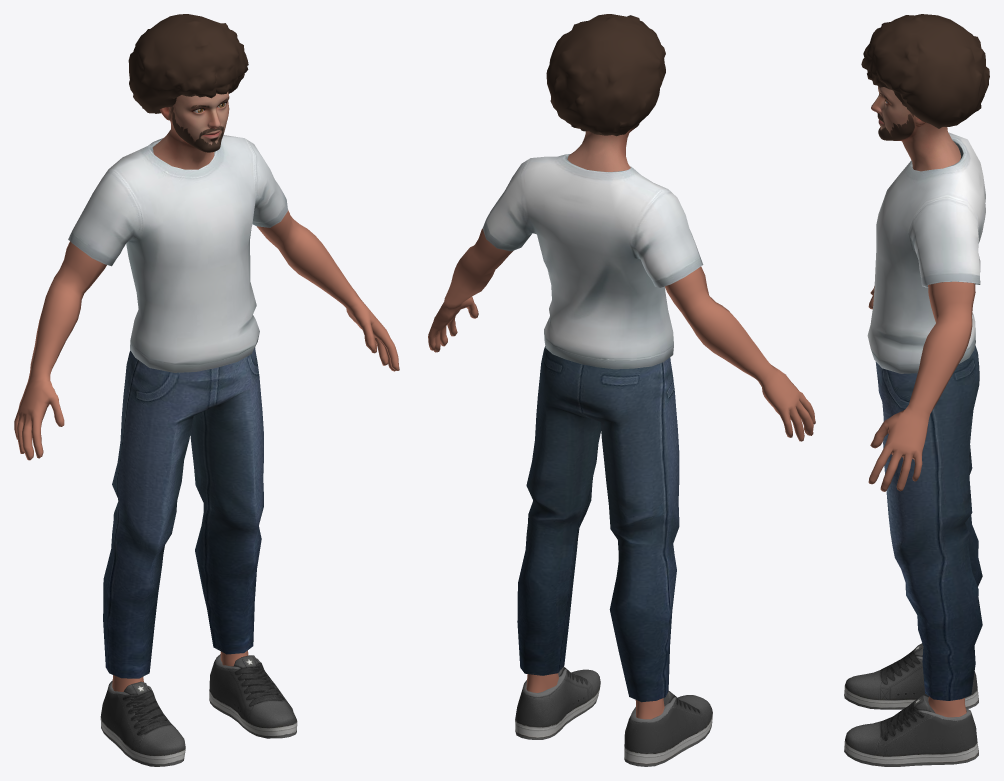
The model's file is avatar_2.glb.
The picture shows the model from 3 angles, left to right: view 1: azimuth 30°, elevation 25°; view 2: azimuth 150°, elevation 25°; view 3: azimuth 270°, elevation 25°; orthographic projection.
Visible parts, largest first — view 1: Wolf3D_Outfit_Bottom, Wolf3D_Outfit_Top, Wolf3D_Body, Wolf3D_Outfit_Footwear, Wolf3D_Hair, Wolf3D_Head; view 2: Wolf3D_Outfit_Bottom, Wolf3D_Outfit_Top, Wolf3D_Hair, Wolf3D_Body, Wolf3D_Outfit_Footwear, Wolf3D_Head; view 3: Wolf3D_Outfit_Bottom, Wolf3D_Outfit_Top, Wolf3D_Hair, Wolf3D_Outfit_Footwear, Wolf3D_Body, Wolf3D_Head.
Boxes of the visible parts, <box> form: Wolf3D_Outfit_Bottom: <box>103,347,263,678</box>; Wolf3D_Outfit_Top: <box>68,135,287,372</box>; Wolf3D_Body: <box>14,210,399,691</box>; Wolf3D_Outfit_Footwear: <box>100,654,297,766</box>; Wolf3D_Hair: <box>128,14,248,113</box>; Wolf3D_Head: <box>153,91,229,169</box>; Wolf3D_Outfit_Bottom: <box>517,346,679,702</box>; Wolf3D_Outfit_Top: <box>482,154,703,369</box>; Wolf3D_Hair: <box>546,14,665,136</box>; Wolf3D_Body: <box>428,228,815,719</box>; Wolf3D_Outfit_Footwear: <box>515,667,712,766</box>; Wolf3D_Head: <box>567,123,639,171</box>; Wolf3D_Outfit_Bottom: <box>875,345,982,700</box>; Wolf3D_Outfit_Top: <box>867,132,985,373</box>; Wolf3D_Hair: <box>861,14,989,128</box>; Wolf3D_Outfit_Footwear: <box>844,643,978,766</box>; Wolf3D_Body: <box>868,281,975,717</box>; Wolf3D_Head: <box>871,86,960,171</box>.
Size of the model in its own units: 1.06 by 1.93 by 0.3596.
Materials: 8 (8 with a texture image).
